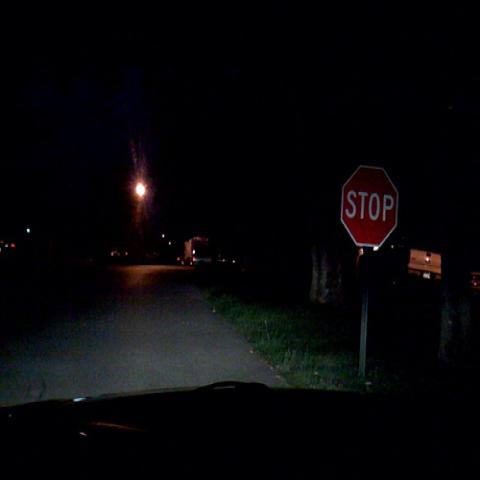car: (1, 378, 462, 474)
